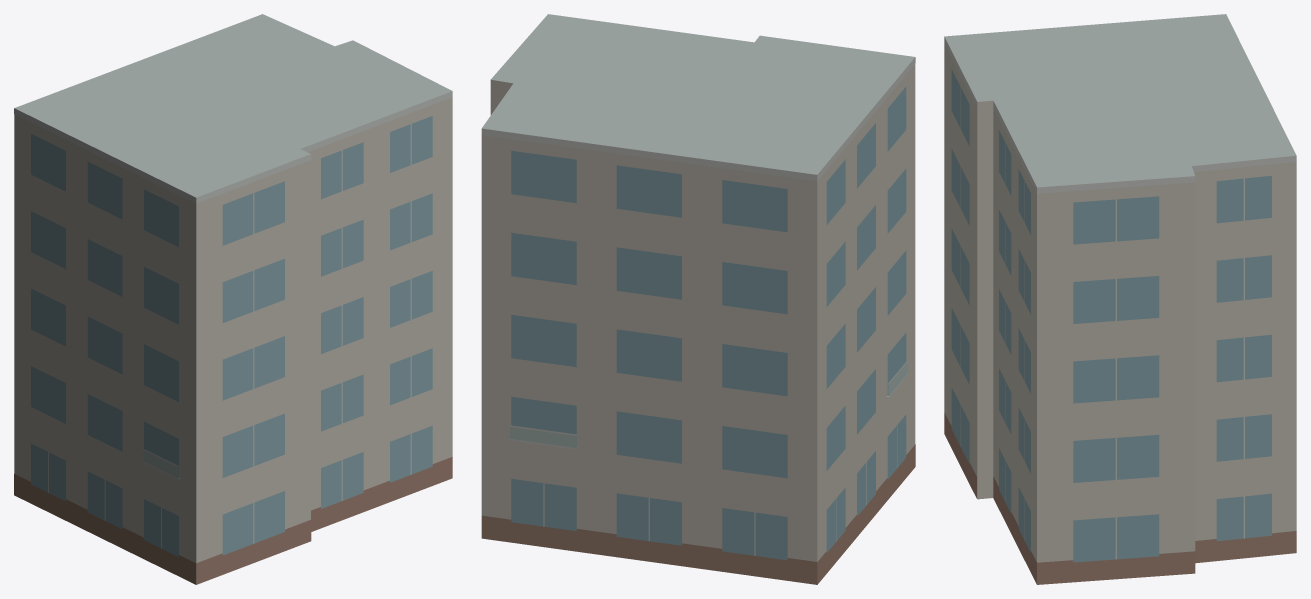
File: survey-upis-32925763.glb
3 views of the same model, side by side, from view 1: azimuth 30°, elevation 25°; view 2: azimuth 150°, elevation 25°; view 3: azimuth 270°, elevation 25° (orthographic). The views are drawn at different scales.
Parts seen in each view (by area): view 1: survey-upis-32925763.tmp; view 2: survey-upis-32925763.tmp; view 3: survey-upis-32925763.tmp.
Part boxes in pixels (x1,y1,x2,y2): survey-upis-32925763.tmp: (14, 14, 452, 584); survey-upis-32925763.tmp: (481, 14, 915, 584); survey-upis-32925763.tmp: (944, 14, 1296, 584).
Size of the model in its own units: 14.61 by 15.6 by 12.55.
